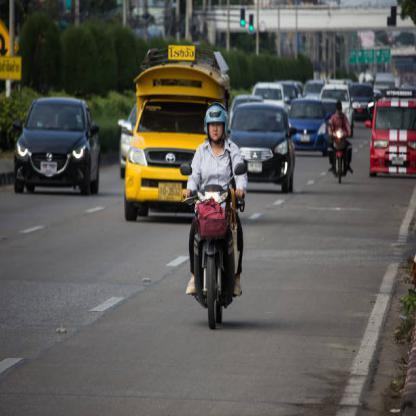Motorcycle: (184, 162, 241, 329)
